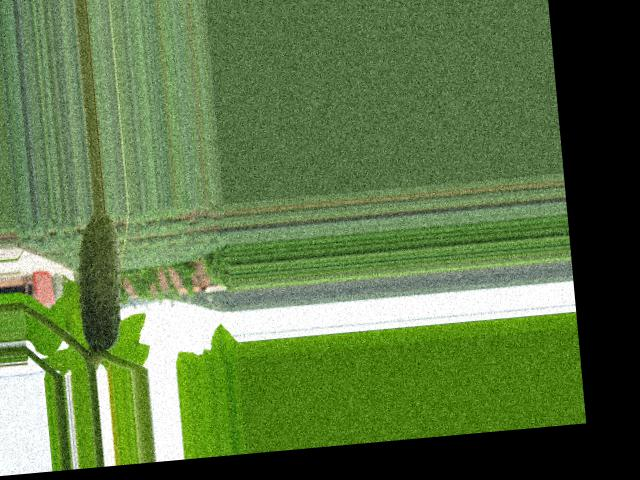cucumber: (72, 211, 128, 351)
